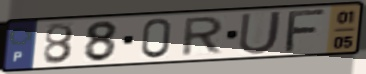0: (140, 17, 174, 60)
8: (83, 20, 120, 63), (41, 22, 75, 65)
F: (282, 7, 330, 54)
R: (178, 15, 227, 59)
U: (236, 9, 285, 57)
